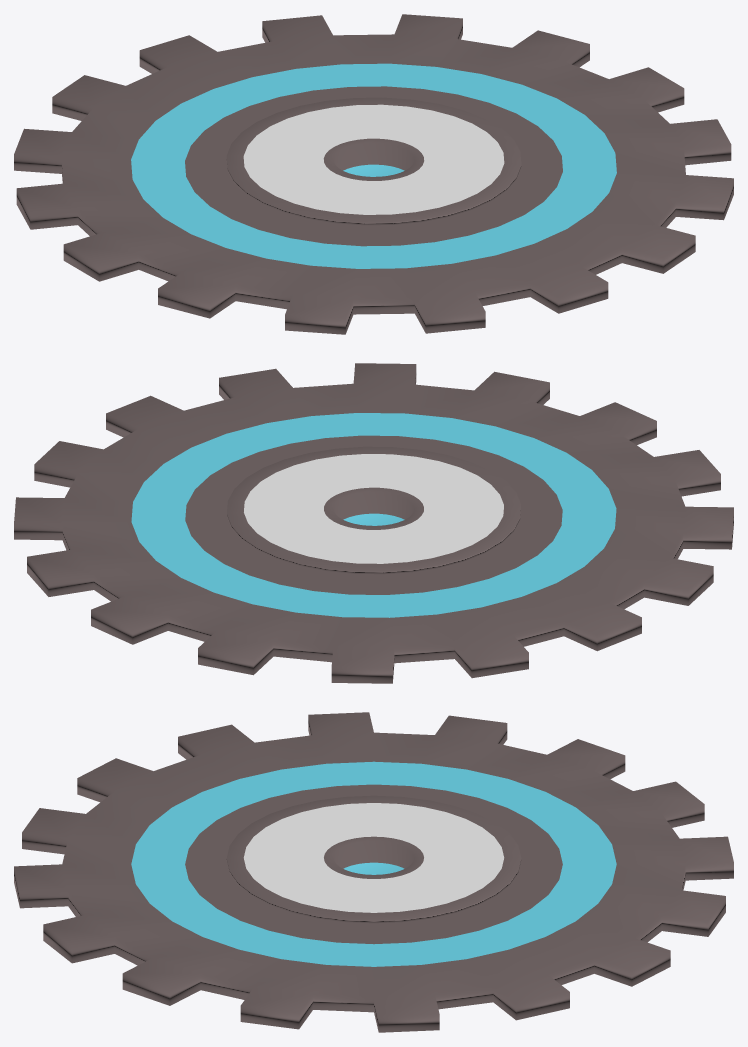
The model's file is bigWheel.glb.
3 renders of one model, top to bottom at view 1: azimuth 30°, elevation 25°; view 2: azimuth 150°, elevation 25°; view 3: azimuth 270°, elevation 25°, orthographic.
Visible parts, largest first — view 1: Cylinder.007; view 2: Cylinder.007; view 3: Cylinder.007.
Boxes of the visible parts, <box> form: Cylinder.007: <box>14,14,733,334</box>; Cylinder.007: <box>14,363,733,683</box>; Cylinder.007: <box>14,712,733,1032</box>.
Size of the model in its own units: 3.28 by 0.1141 by 3.28.
